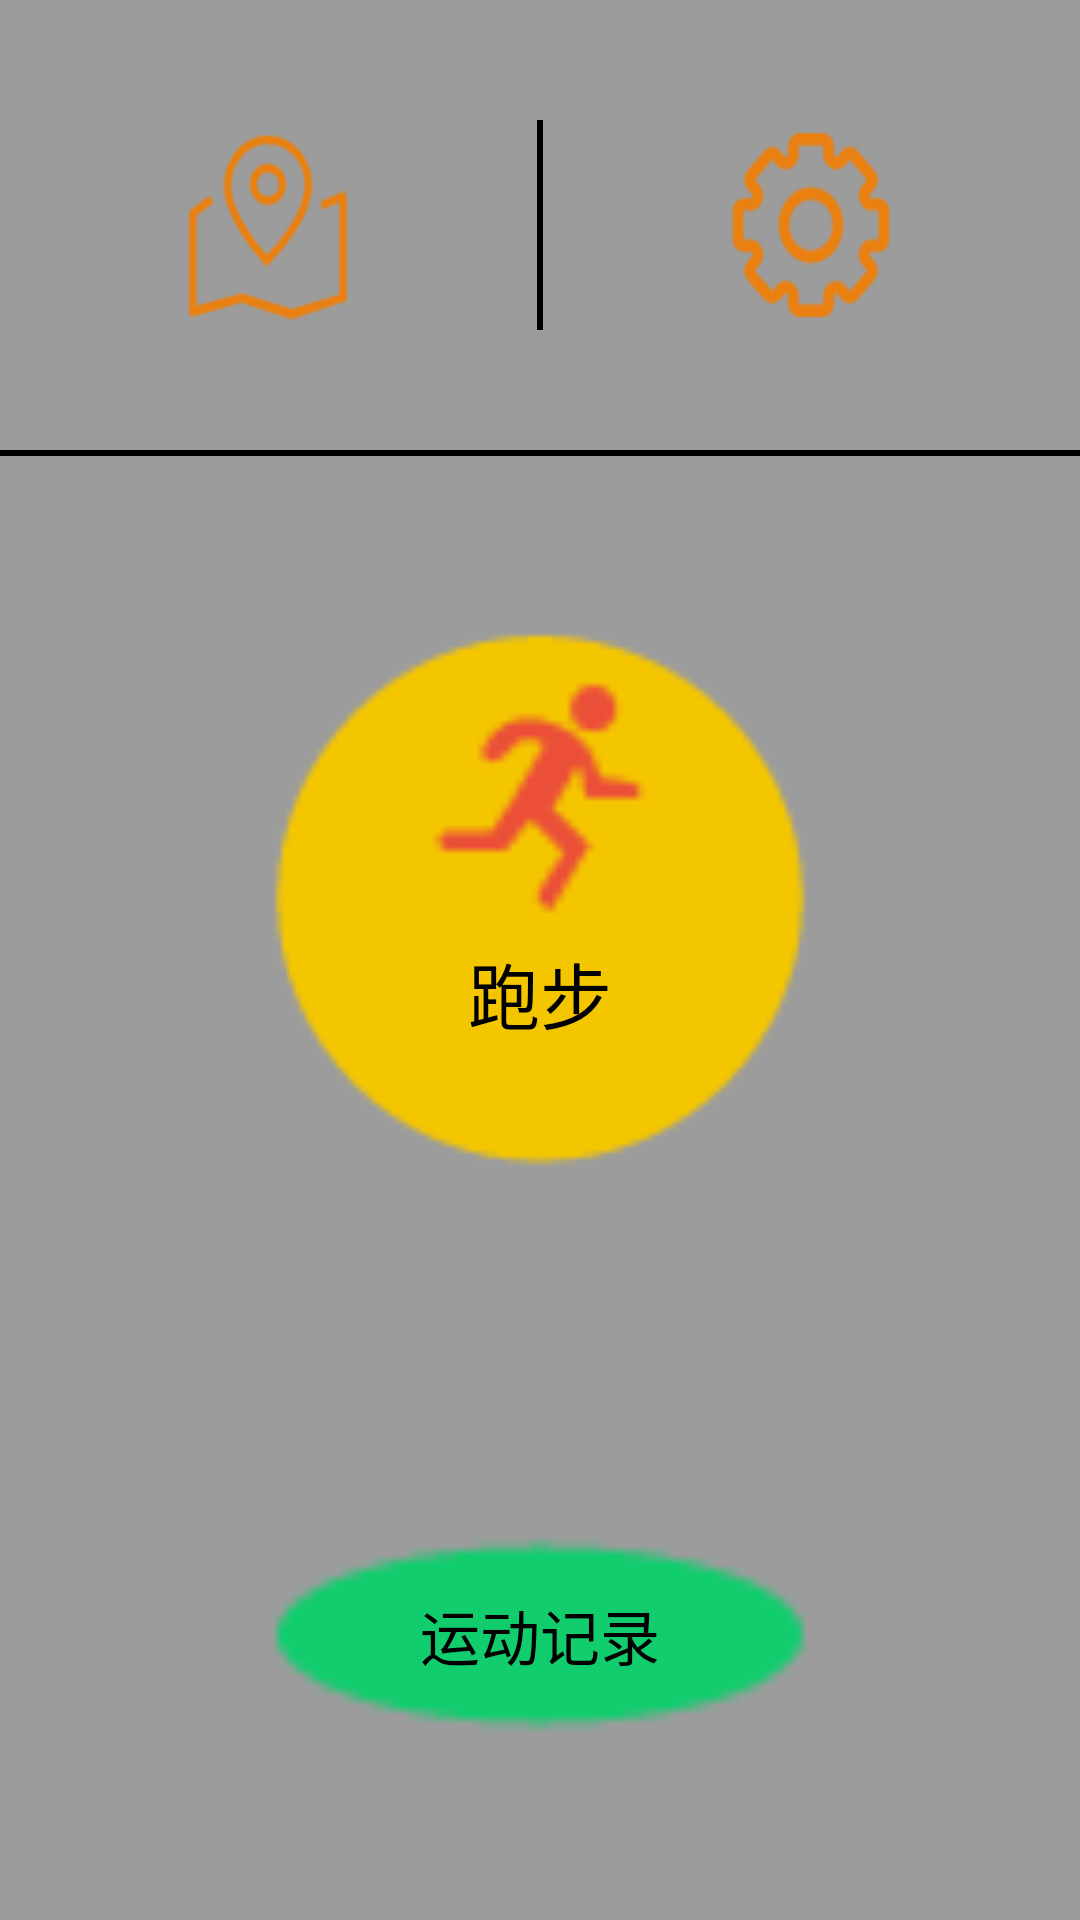

Named icons in this screenshot (1080×1920) and their bounding boxes, BBox(x1, y1, x2, y2):
dituu: BBox(189, 135, 347, 320)
shezhi: BBox(732, 132, 890, 318)
